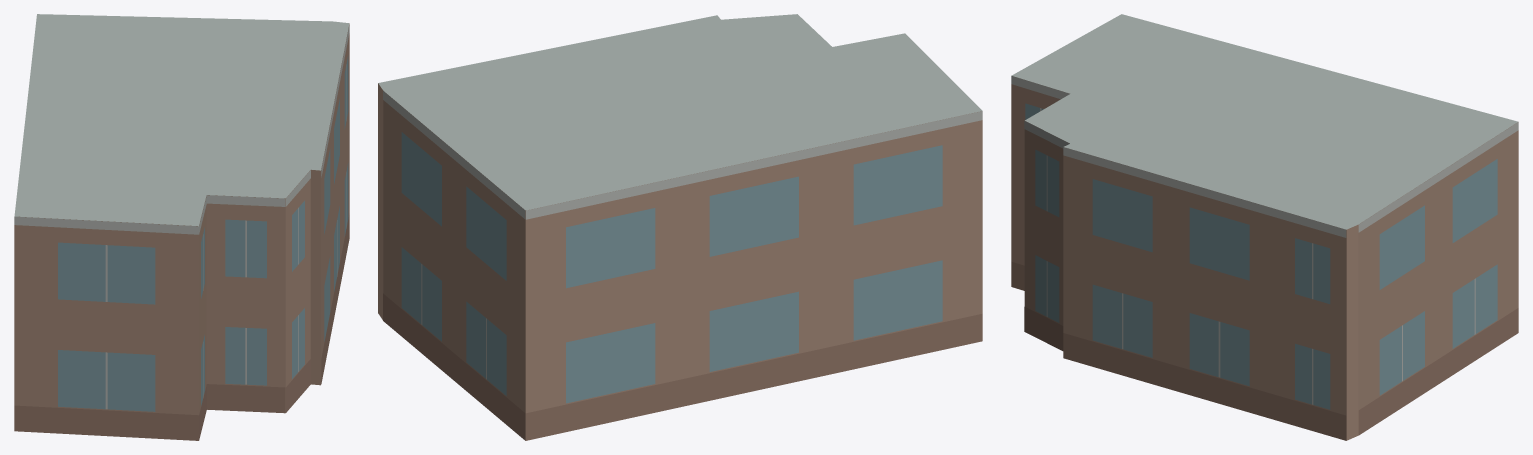
The model's file is survey-upis-32519129.glb.
3 renders of one model, left to right at view 1: azimuth 30°, elevation 25°; view 2: azimuth 150°, elevation 25°; view 3: azimuth 270°, elevation 25°, orthographic. The views are drawn at different scales.
Parts seen in each view (by area): view 1: survey-upis-32519129.tmp; view 2: survey-upis-32519129.tmp; view 3: survey-upis-32519129.tmp.
Part boxes in pixels (box(x1,y1,x2,y2)): survey-upis-32519129.tmp: box(14, 14, 349, 440); survey-upis-32519129.tmp: box(378, 14, 982, 440); survey-upis-32519129.tmp: box(1011, 14, 1518, 440).
Size of the model in its own units: 13.37 by 6.1 by 13.29.
